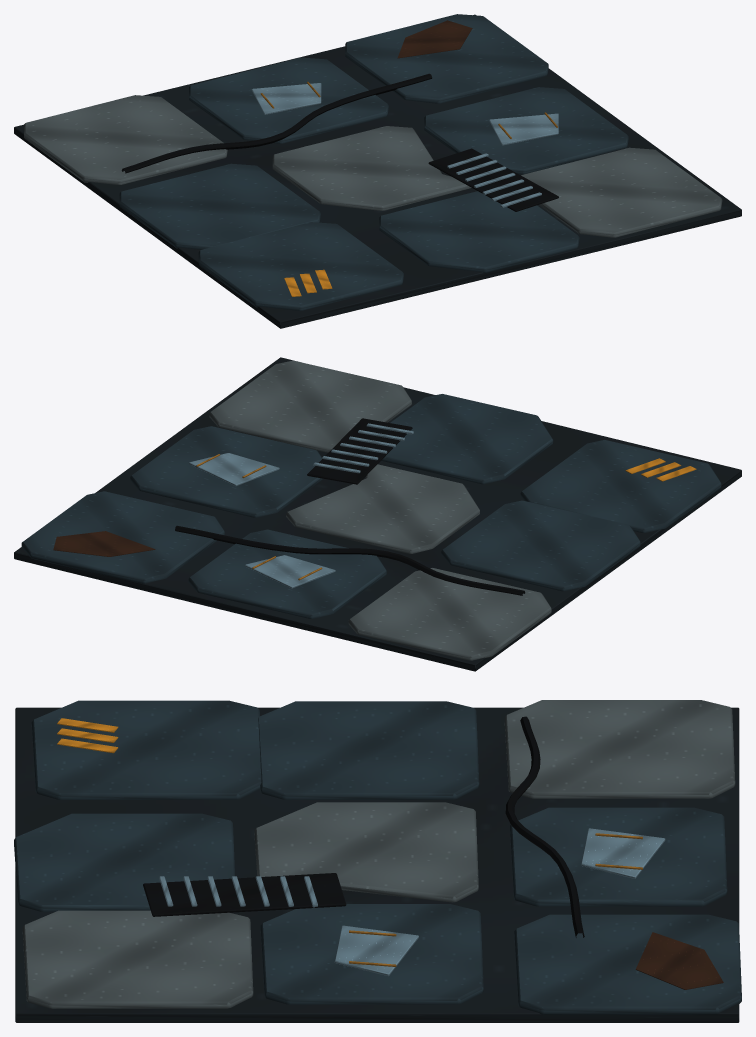
File: Deck_V2_1.fbx
3 views of the same model, one above another, from view 1: azimuth 30°, elevation 25°; view 2: azimuth 150°, elevation 25°; view 3: azimuth 270°, elevation 25° (orthographic). The views are drawn at different scales.
Parts seen in each view (by area): view 1: Deck_V2_1; view 2: Deck_V2_1; view 3: Deck_V2_1.
Part boxes in pixels (x1,y1,x2,y2): Deck_V2_1: [14, 14, 741, 328]; Deck_V2_1: [14, 357, 741, 671]; Deck_V2_1: [14, 700, 741, 1022].
Size of the model in its own units: 6.05 by 0.214 by 6.03.
